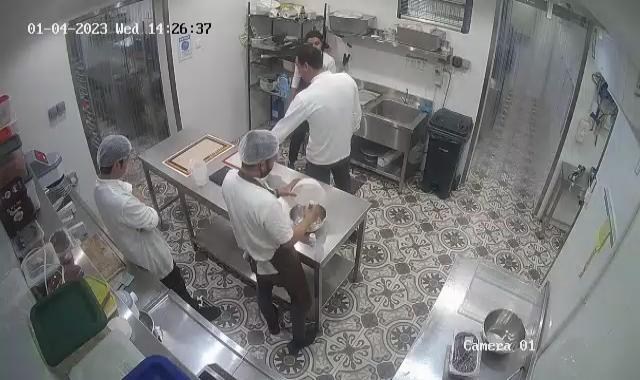hairnet: (240, 129, 280, 166), (96, 132, 133, 171)
no_hairnet: (295, 45, 323, 73), (303, 28, 327, 44)
